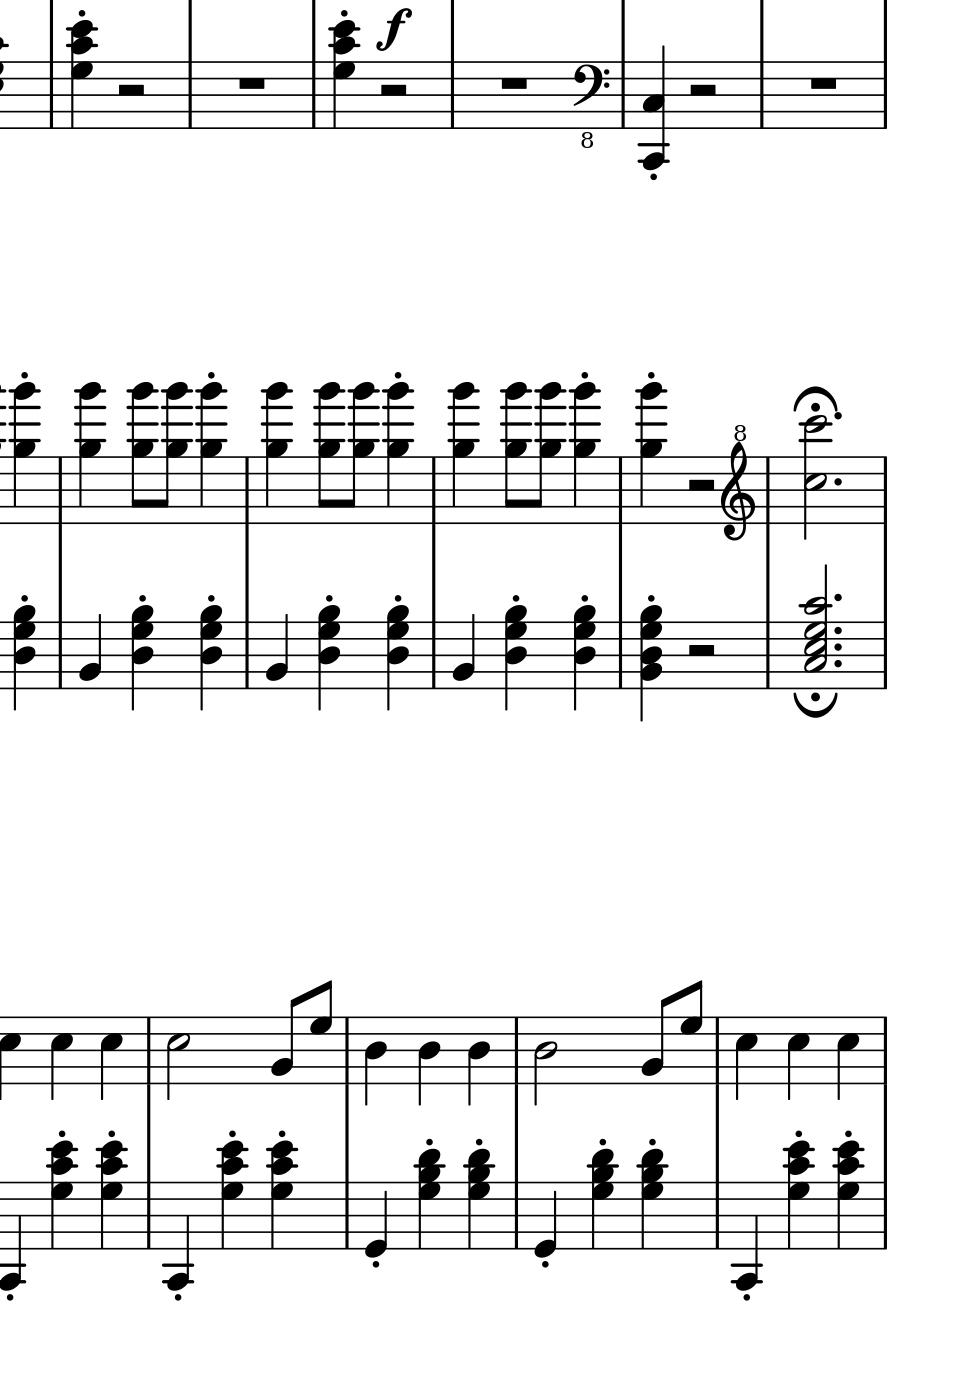2_4: (531, 1015, 558, 1108)
2_4th: (801, 561, 832, 689)
2_5: (164, 1015, 191, 1101)
2_5_12: (799, 413, 832, 541)
4_-4: (731, 1179, 762, 1292), (163, 1178, 193, 1292), (1, 1179, 25, 1291)
4_0: (363, 1180, 388, 1259), (532, 1180, 558, 1259)
4_2: (77, 612, 103, 691), (451, 612, 476, 690), (264, 612, 288, 690)
4_4: (415, 1015, 441, 1109), (362, 1015, 388, 1108), (465, 1015, 491, 1107)
4_4th: (635, 600, 666, 723)
4_5: (733, 1015, 758, 1103), (785, 1015, 810, 1102), (48, 1015, 73, 1101), (98, 1014, 122, 1102), (835, 1015, 859, 1101)
4_9_16: (7, 382, 42, 526), (74, 381, 109, 525), (194, 380, 229, 524), (260, 380, 295, 524), (381, 380, 416, 524), (447, 380, 482, 524), (567, 381, 602, 525), (635, 380, 670, 524)
4_th: (326, 16, 362, 129), (214, 1137, 249, 1252), (264, 1136, 298, 1252), (94, 1137, 127, 1253), (46, 1137, 78, 1252), (832, 1138, 864, 1253), (378, 600, 410, 714), (783, 1136, 815, 1252), (412, 1146, 445, 1251), (66, 16, 97, 131), (500, 601, 531, 712), (585, 1146, 618, 1251), (462, 1148, 494, 1255), (126, 601, 157, 710), (635, 1147, 667, 1252), (568, 600, 596, 712), (194, 601, 222, 710)
8_2: (638, 995, 671, 1085), (269, 994, 301, 1085)
8_7: (309, 979, 332, 1085), (679, 979, 702, 1085)
8_9_16: (158, 381, 191, 528), (347, 378, 380, 525), (532, 380, 565, 527), (500, 379, 532, 525), (126, 381, 158, 527), (313, 380, 345, 526)
Fermata_above: (792, 385, 842, 421), (790, 689, 841, 718)
High_Gclef: (720, 423, 756, 543)
Lower_Fclef: (568, 60, 611, 150)
Rests1: (804, 72, 841, 92), (234, 73, 270, 92), (497, 73, 533, 92)
Rests2: (682, 78, 721, 100), (377, 81, 412, 100), (684, 641, 719, 660), (684, 476, 717, 495), (113, 82, 148, 99)
Single_barline: (181, 62, 199, 129), (443, 62, 461, 128), (752, 62, 770, 128), (425, 457, 443, 523), (708, 1018, 727, 1084), (307, 62, 323, 129), (875, 62, 892, 129), (876, 1016, 893, 1084), (612, 621, 629, 688), (338, 1017, 355, 1084), (876, 457, 893, 522), (508, 1018, 525, 1083), (338, 1183, 355, 1248), (43, 62, 59, 129), (612, 458, 629, 522), (238, 621, 253, 688), (425, 621, 441, 688), (141, 1017, 157, 1084), (708, 1182, 724, 1249), (52, 457, 68, 523), (239, 457, 255, 523), (876, 622, 892, 688), (508, 1183, 524, 1249), (615, 62, 630, 128), (52, 621, 67, 688), (141, 1183, 156, 1249), (877, 1183, 892, 1249), (760, 458, 775, 523)
dot: (832, 474, 846, 491), (832, 624, 842, 641), (832, 592, 844, 606), (832, 657, 844, 670), (833, 641, 844, 651)
f: (375, 7, 415, 50)
